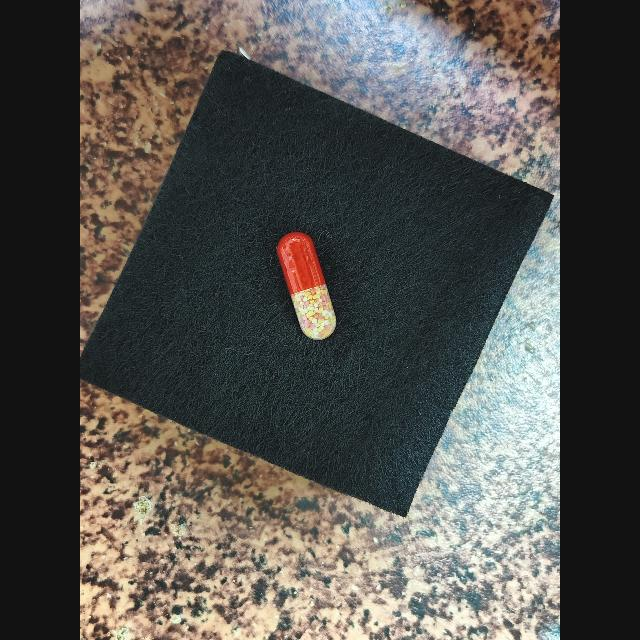Intact Capsule: (276, 232, 336, 340)
